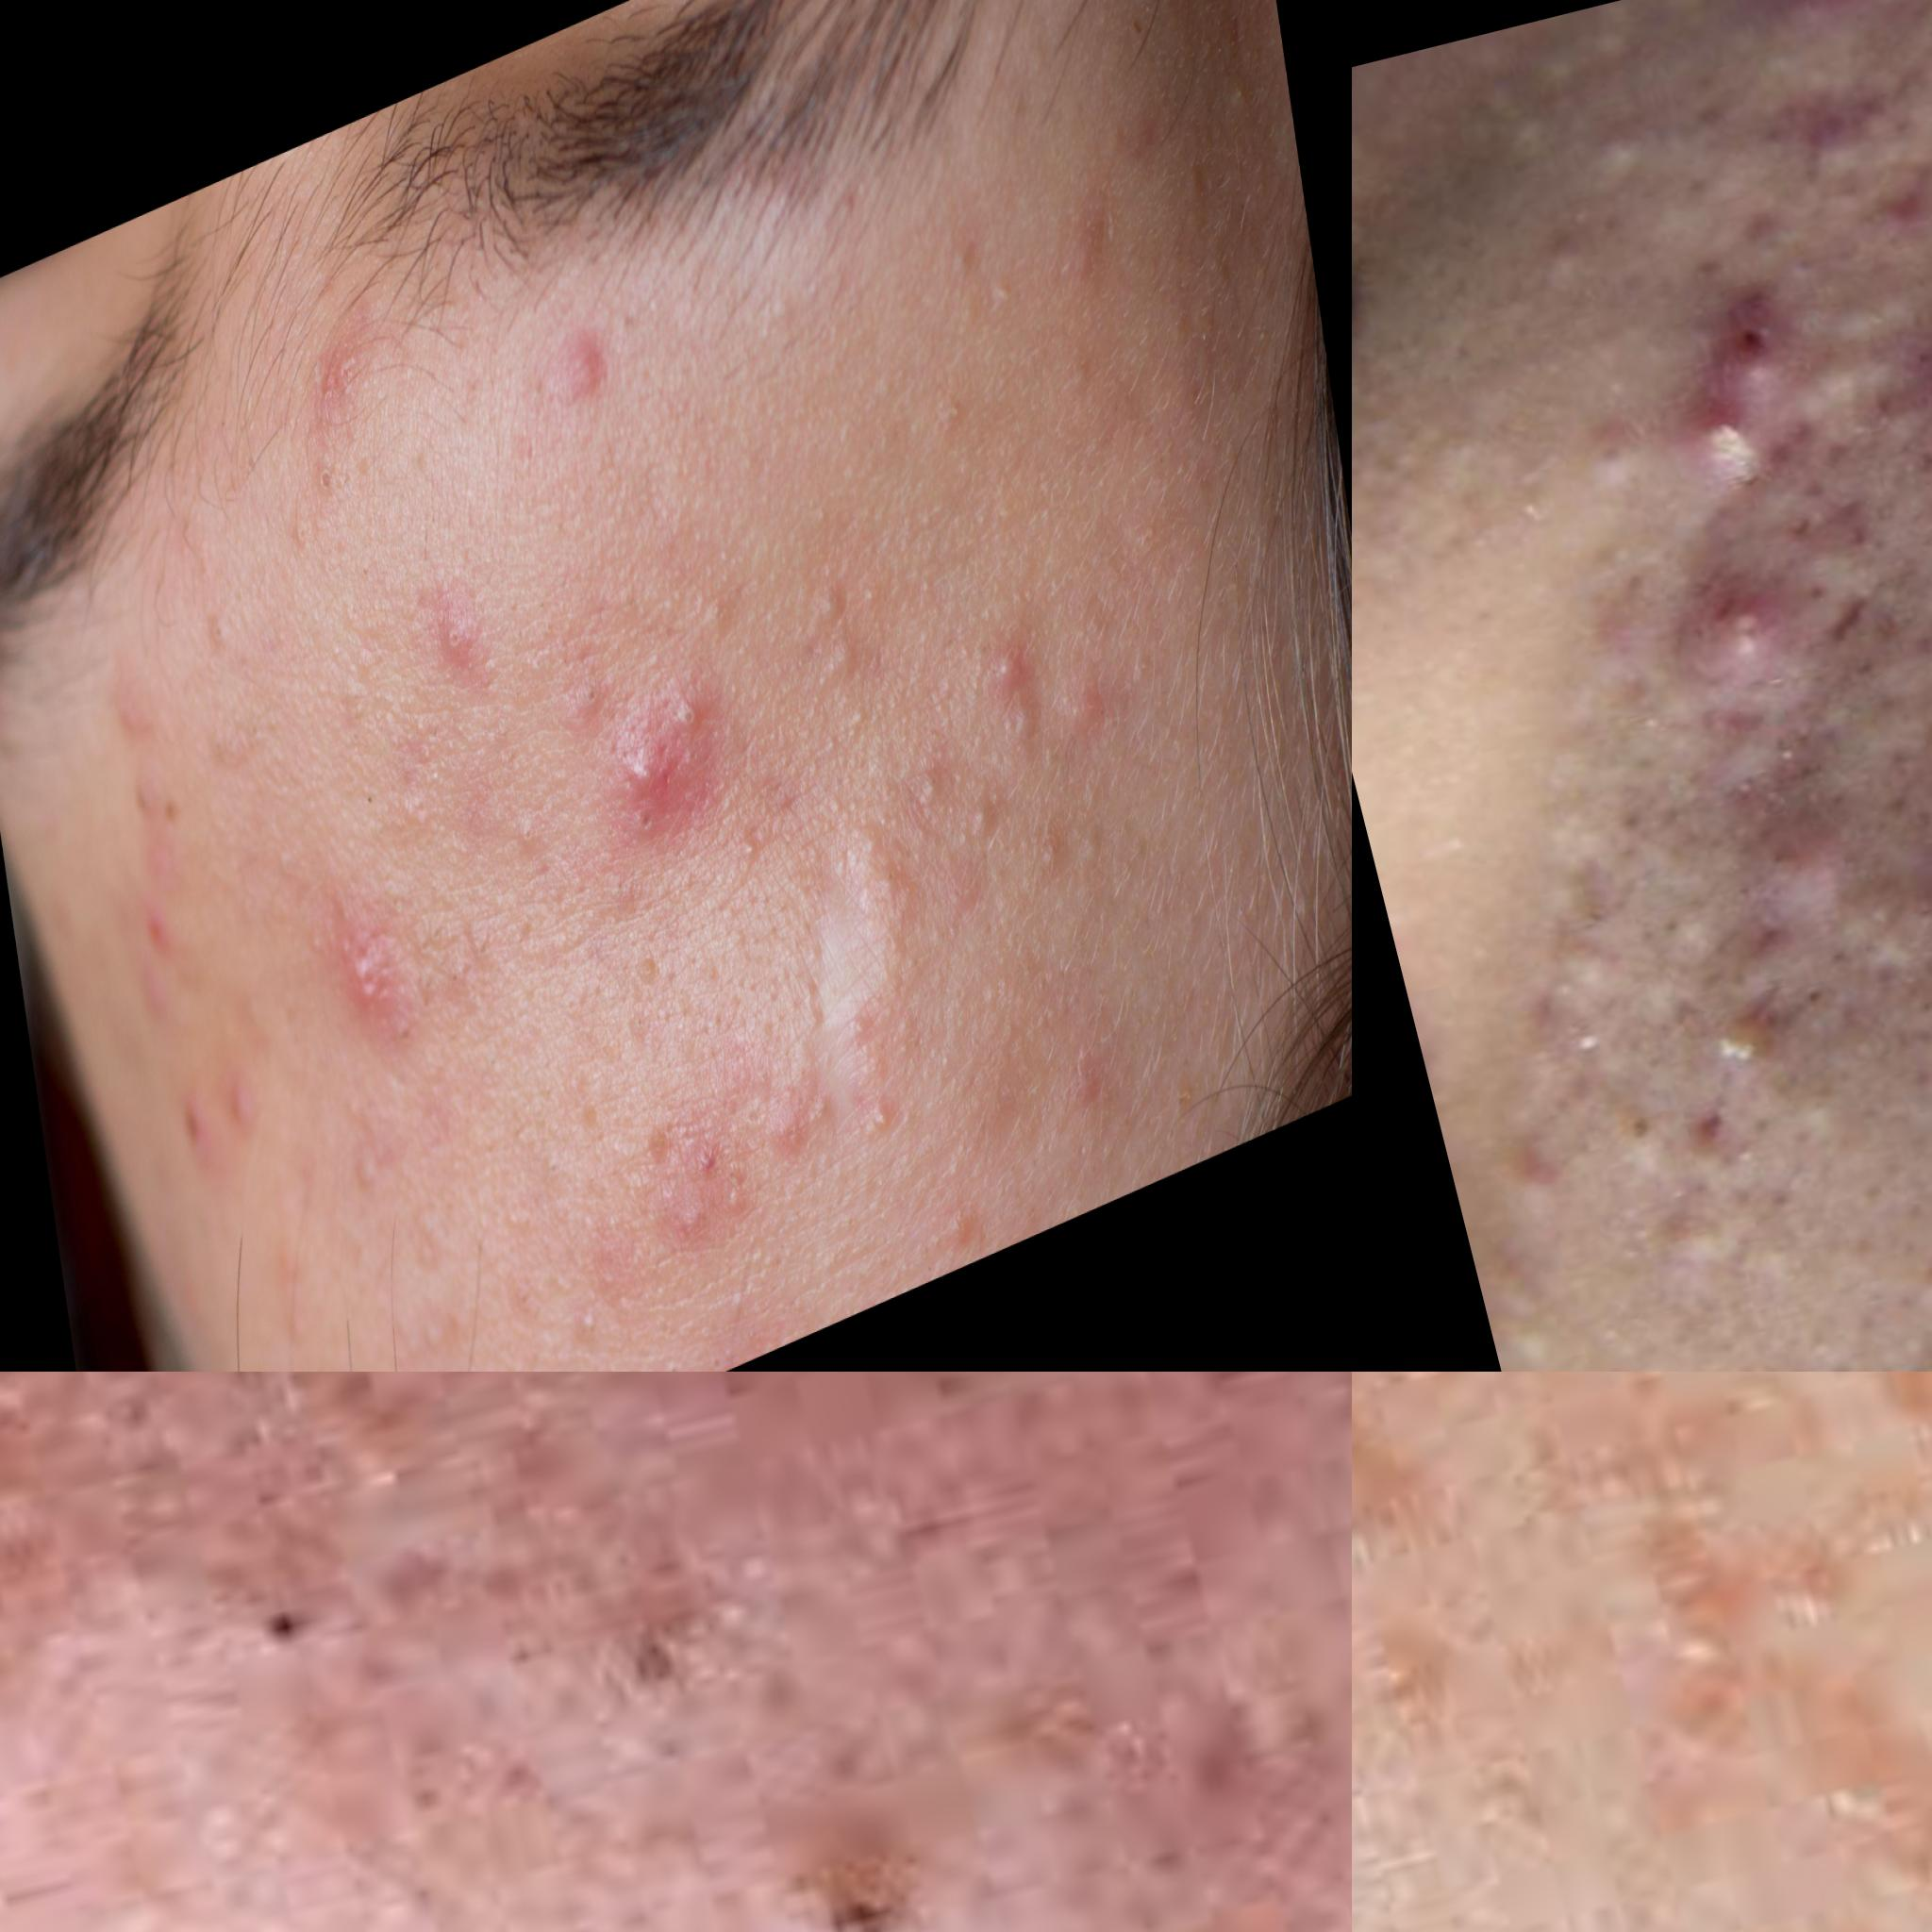blackhead: (140, 1405, 410, 1831), (713, 1787, 1062, 1932), (580, 1564, 807, 1721)
flat_wart: (1353, 1373, 1932, 1769), (1353, 1702, 1932, 1932), (1353, 1389, 1582, 1891)
papular: (582, 674, 718, 886), (649, 1106, 773, 1295), (962, 586, 1072, 763), (1759, 784, 1861, 920), (830, 791, 918, 945), (540, 288, 633, 432), (324, 902, 410, 1033)
purulent: (1691, 566, 1810, 688), (1693, 372, 1771, 478)
whitehead: (1509, 301, 1679, 515), (1553, 67, 1698, 235), (1778, 65, 1925, 209), (1764, 1049, 1893, 1180), (410, 557, 501, 720), (796, 556, 885, 711), (1499, 7, 1642, 94), (1504, 1090, 1587, 1231), (1649, 798, 1744, 918), (757, 1067, 832, 1194), (1614, 1062, 1698, 1171), (1545, 939, 1642, 1019), (617, 915, 678, 1035), (897, 736, 961, 837), (557, 1274, 619, 1373), (858, 1072, 911, 1168), (954, 775, 1007, 863)
